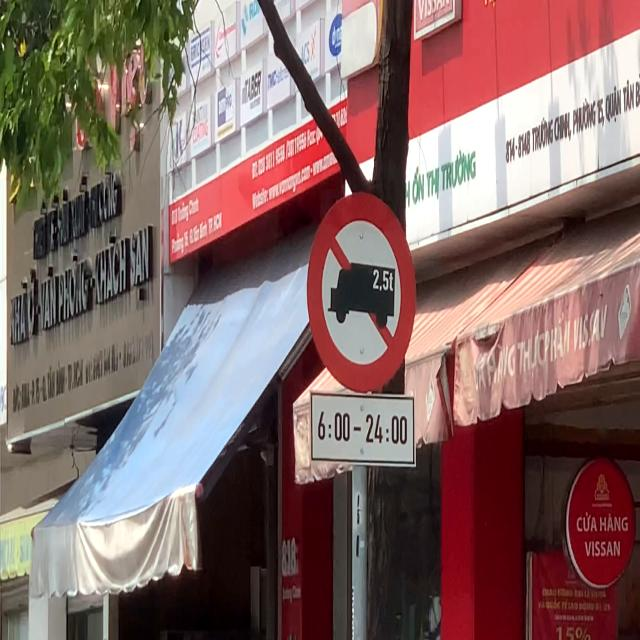P.106b: (306, 191, 418, 393)
